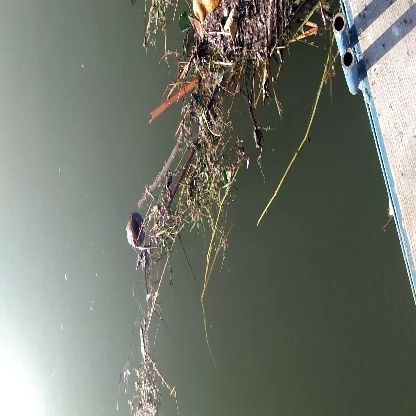branch: (138, 131, 198, 210)
